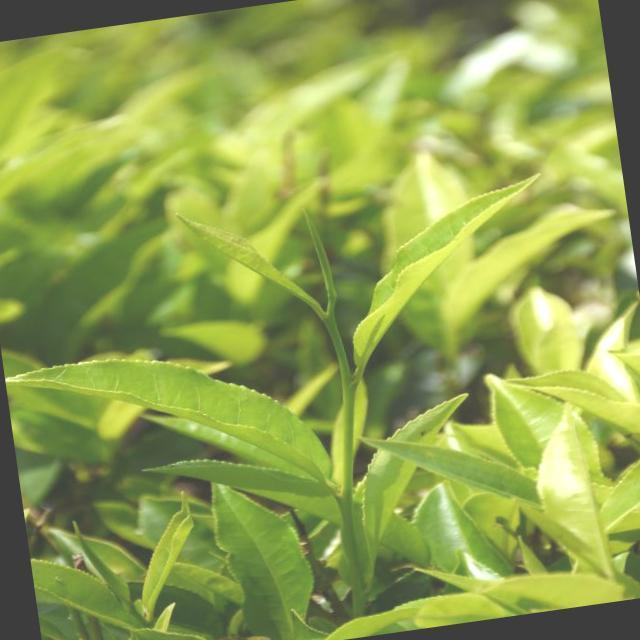Stem: (343, 376, 356, 396)
